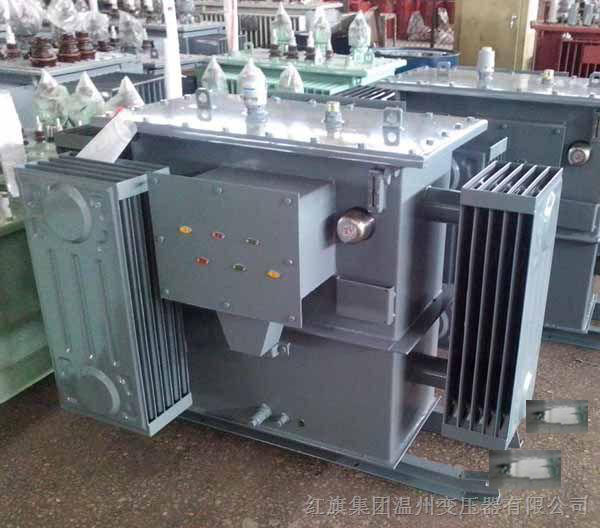oil: (247, 441, 342, 493), (106, 434, 195, 480)
